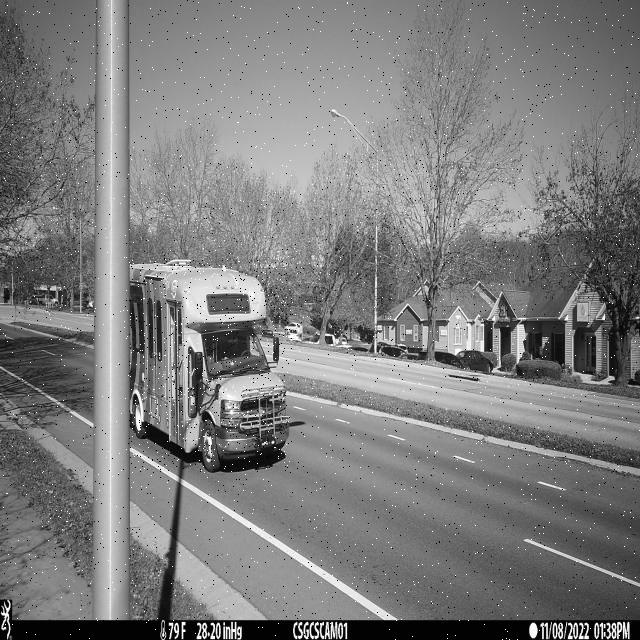Bus- Small: (129, 259, 290, 473)
